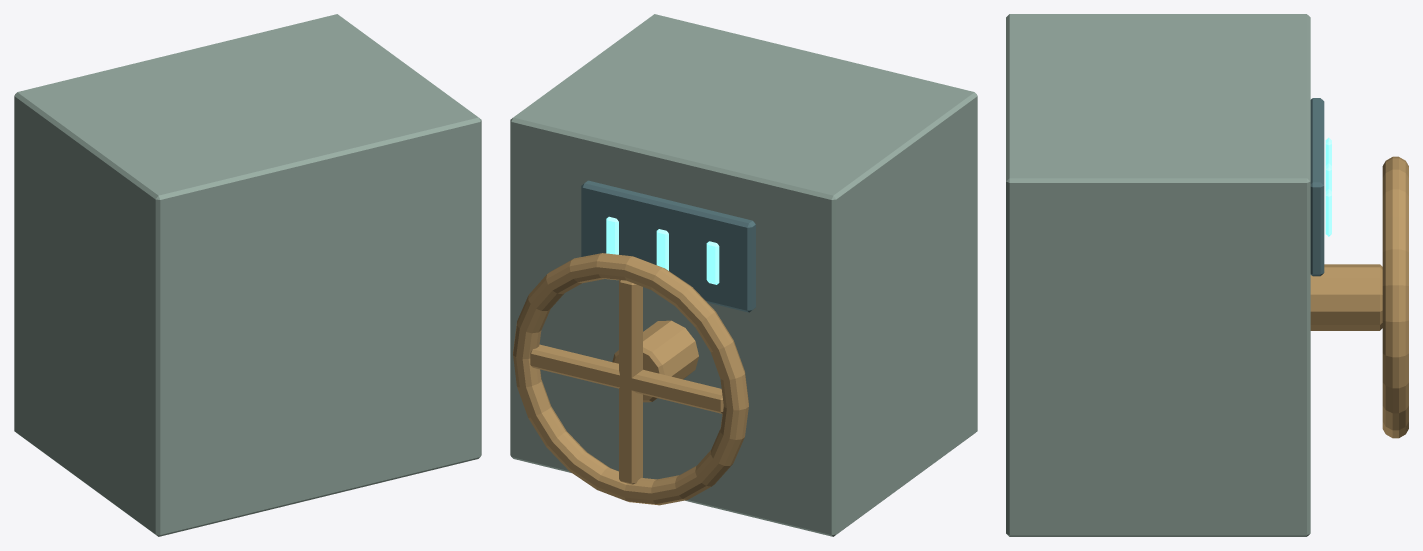
The model's file is tidal_valve.glb.
The picture shows the model from 3 angles, left to right: view 1: azimuth 30°, elevation 25°; view 2: azimuth 150°, elevation 25°; view 3: azimuth 270°, elevation 25°; orthographic projection. The views are drawn at different scales.
Visible parts, largest first — view 1: tidal_valve_surfaces; view 2: tidal_valve_surfaces, ValveRotor_surfaces; view 3: tidal_valve_surfaces, ValveRotor_surfaces.
Boxes of the visible parts, <box> form: tidal_valve_surfaces: <box>14,14,481,536</box>; tidal_valve_surfaces: <box>510,14,977,536</box>; ValveRotor_surfaces: <box>513,253,748,505</box>; tidal_valve_surfaces: <box>1006,14,1382,536</box>; ValveRotor_surfaces: <box>1382,156,1408,438</box>.
Bounding box in the file's own units: 1.3 × 1.3 × 1.32.
